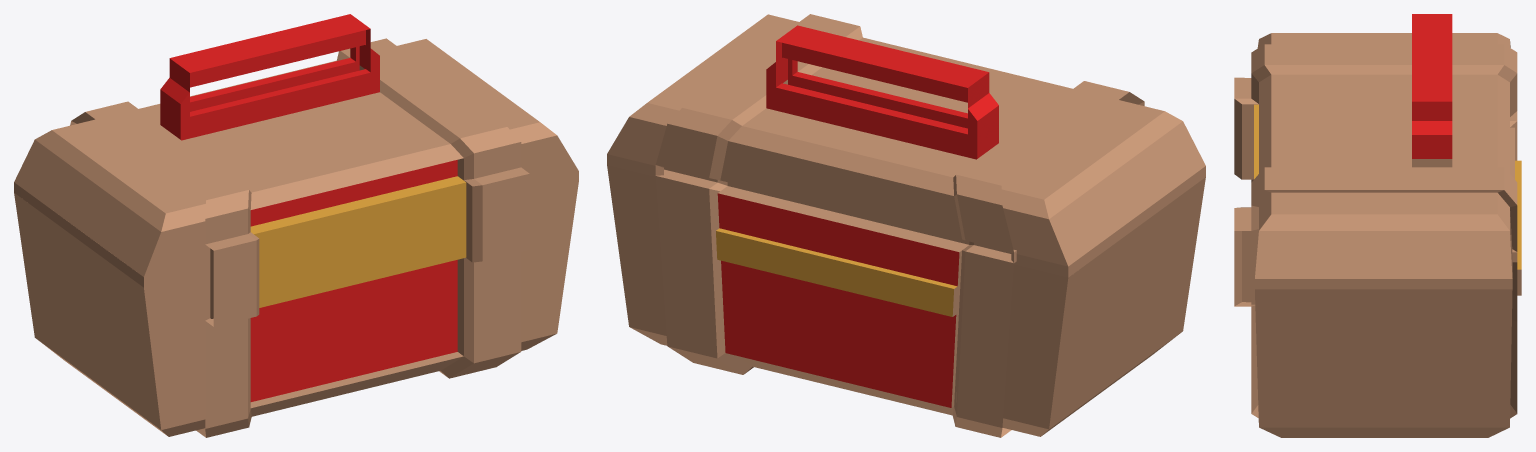
The model's file is toolbox.fbx.
3 renders of one model, left to right at view 1: azimuth 30°, elevation 25°; view 2: azimuth 150°, elevation 25°; view 3: azimuth 270°, elevation 25°, orthographic. The views are drawn at different scales.
Parts seen in each view (by area): view 1: Cube; view 2: Cube; view 3: Cube.
Part boxes in pixels (left/top/right/bottom): Cube: left=14, top=14, right=578, bottom=437; Cube: left=607, top=14, right=1205, bottom=437; Cube: left=1234, top=14, right=1521, bottom=437.
Bounding box in the file's own units: 397 × 263 × 229.
